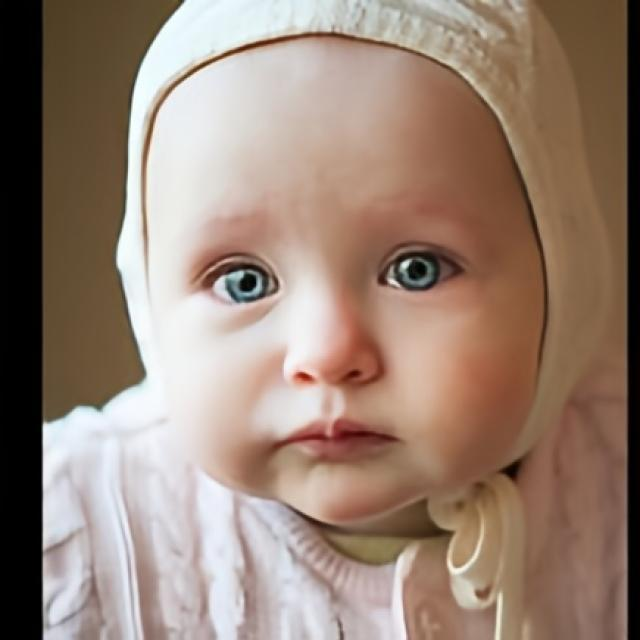surprise: (139, 30, 546, 532)
